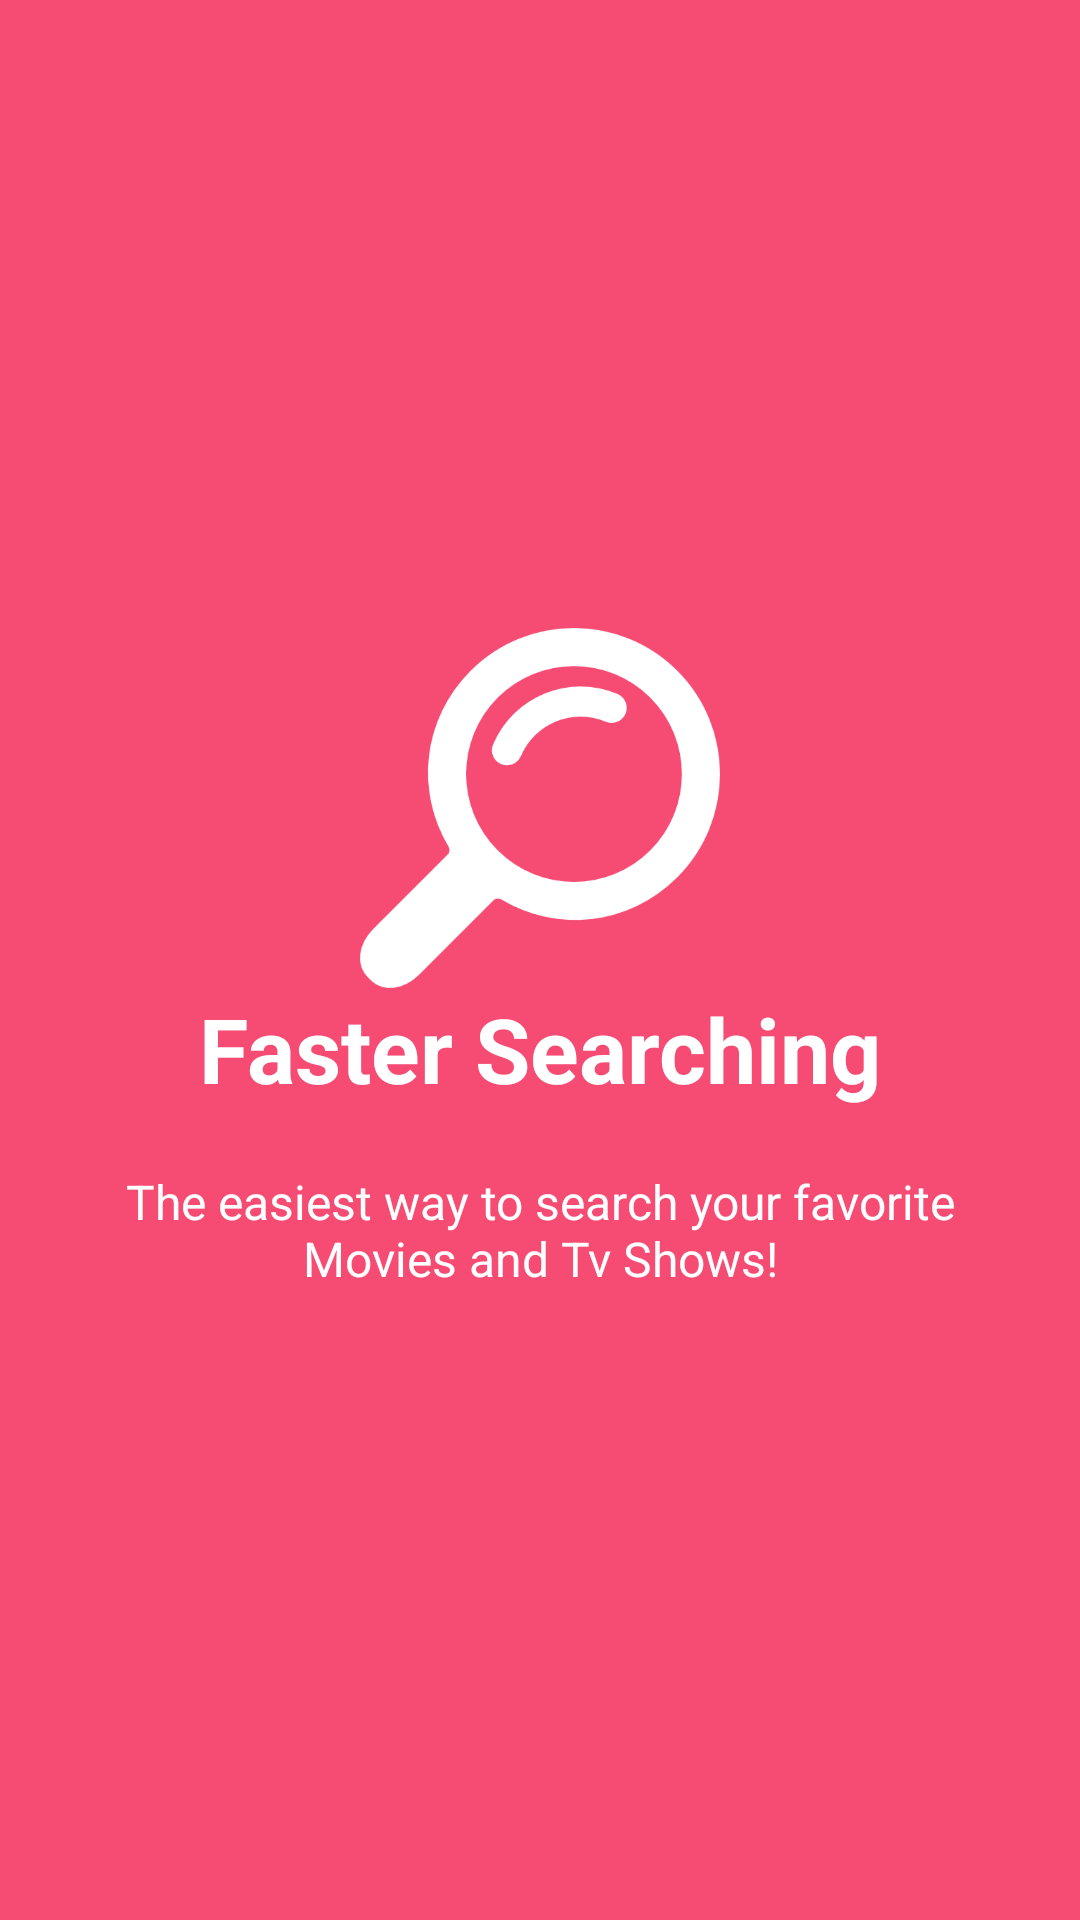

Screen size 1080 x 1920. Icon name, then its center in pixels as point (x, y):
magnifier: point (540, 808)
